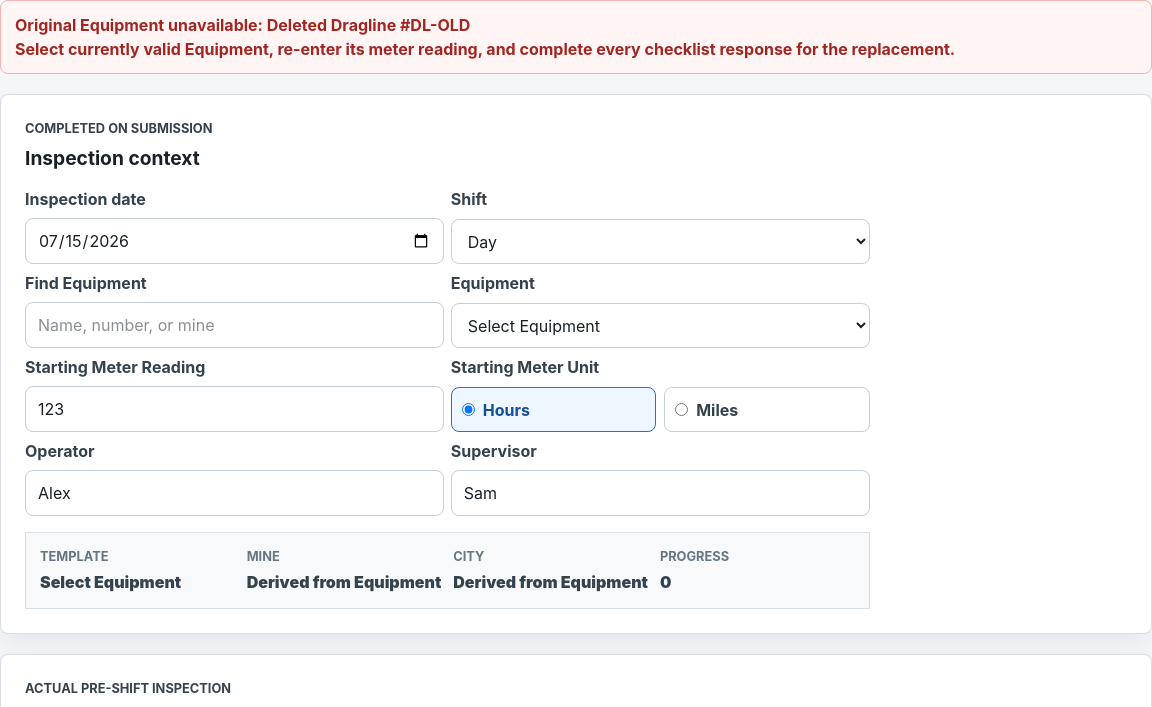
Test: OperationalSafetyChecklistForm › requires intentional replacement when historical Equipment is unavailable
Expected: the text "Original Equipment unavailable: Deleted Dragline #DL-OLD" is shown, [15,15,470,35]
Select "Dragline 2 #DL-2 (Mine B)" in the dropdown labelled "Equipment" at (660, 326), box [451,303,870,348]
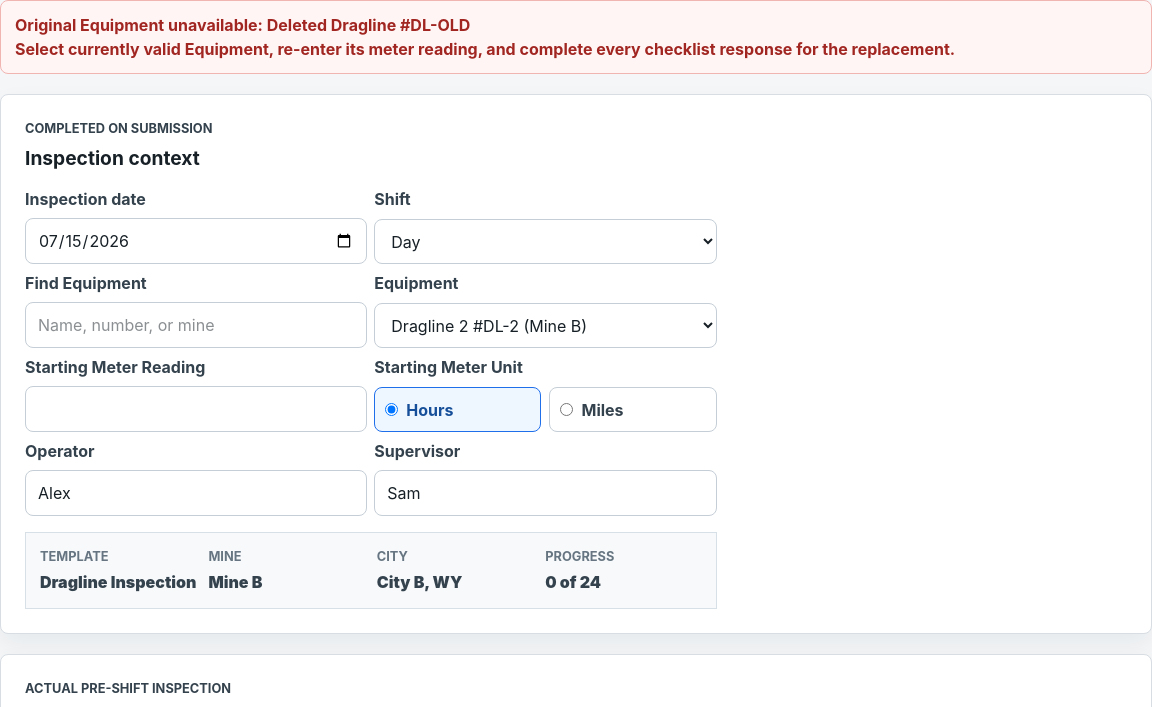
Expected: the date field labelled "Inspection date" holds "2026-07-15", [25,218,367,264]
Now the text "0 of 24" is shown, box [545,572,601,592]
Now the number field labelled "Starting Meter Reading" is not empty, box [25,386,367,432]
